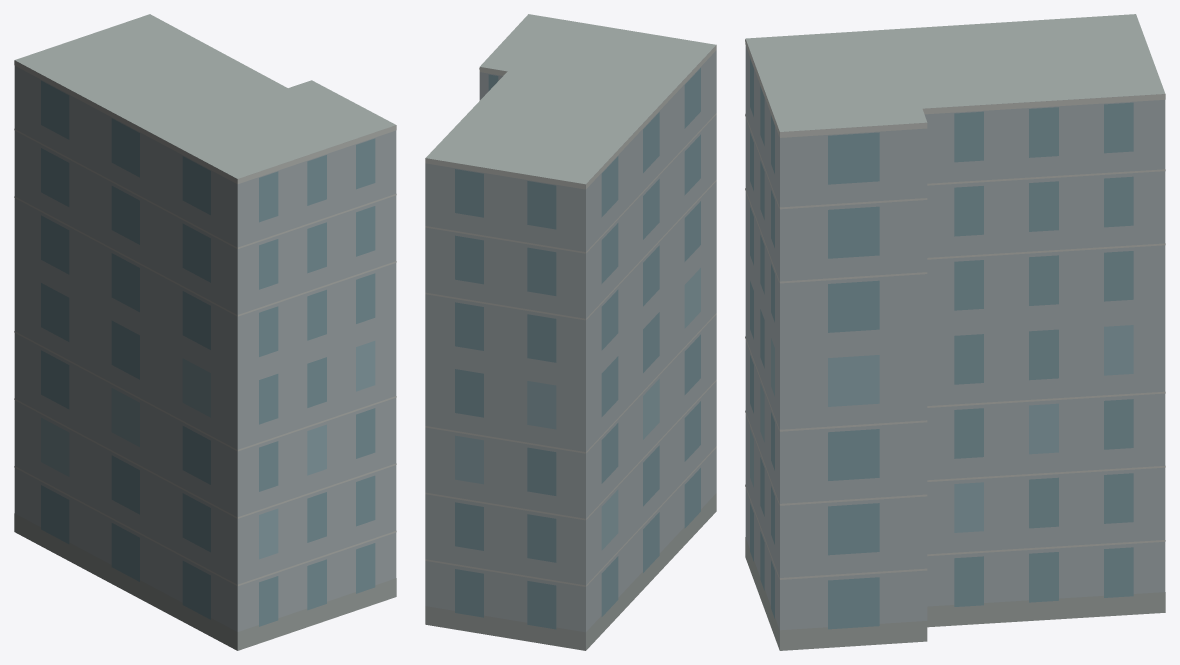
Rendered from survey-upis-32720414.glb.
3 views of the same model, side by side, from view 1: azimuth 30°, elevation 25°; view 2: azimuth 150°, elevation 25°; view 3: azimuth 270°, elevation 25° (orthographic). The views are drawn at different scales.
Parts seen in each view (by area): view 1: survey-upis-32720414.tmp; view 2: survey-upis-32720414.tmp; view 3: survey-upis-32720414.tmp.
Boxes of the visible parts, x1=… form: survey-upis-32720414.tmp: x1=14, y1=14, x2=396, y2=650; survey-upis-32720414.tmp: x1=425, y1=14, x2=716, y2=650; survey-upis-32720414.tmp: x1=745, y1=14, x2=1165, y2=650.
Bounding box in the file's own units: 10.52 × 21.5 × 15.8.
